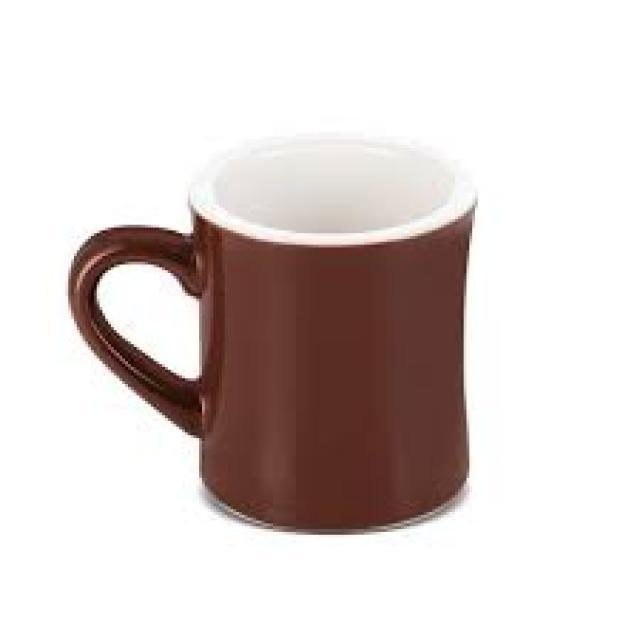taza: (66, 131, 478, 534)
